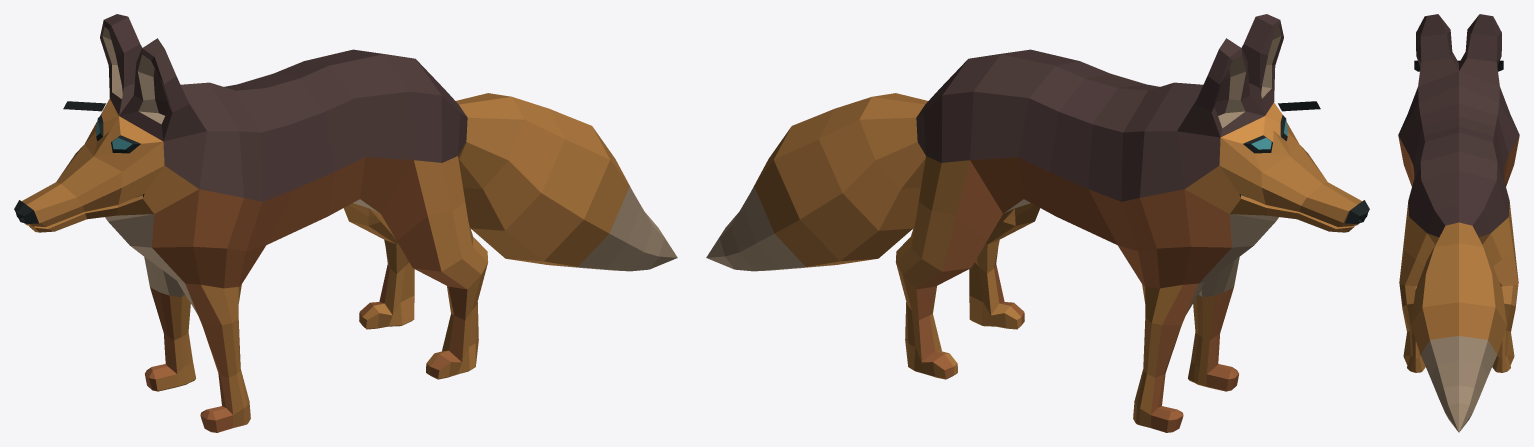
File: fox.glb
3 renders of one model, left to right at view 1: azimuth 30°, elevation 25°; view 2: azimuth 150°, elevation 25°; view 3: azimuth 270°, elevation 25°, orthographic. The views are drawn at different scales.
Parts seen in each view (by area): view 1: Fox; view 2: Fox; view 3: Fox, Sunglasses.
Boxes of the visible parts, x1,y1,x2,y2 form: Fox: (14, 14, 677, 432); Fox: (706, 14, 1369, 432); Fox: (1398, 14, 1519, 432); Sunglasses: (1414, 60, 1503, 71).
Bounding box in the file's own units: 4 × 2.26 × 0.9493.
Materials: 1 (1 with a texture image).
